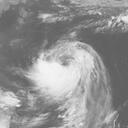cyclone: (34, 40, 104, 98)
